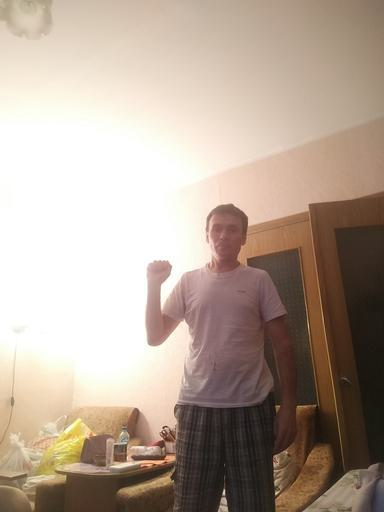fist: (146, 259, 174, 286)
